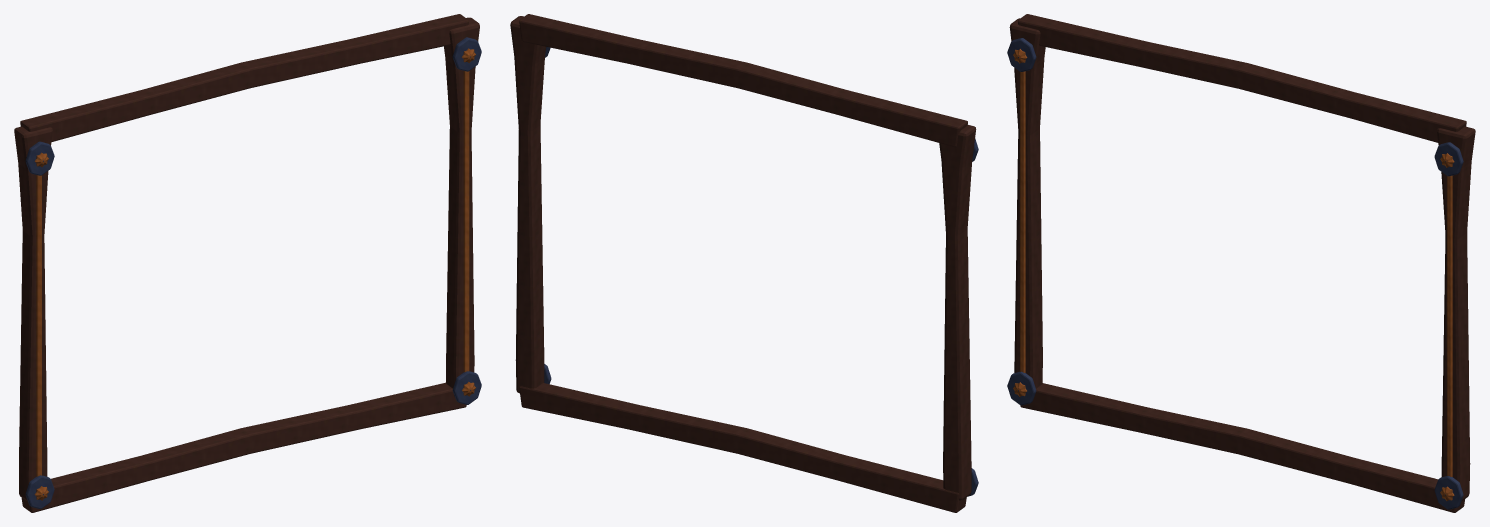
Rendered from hero-shadow-frame.glb.
3 renders of one model, left to right at view 1: azimuth 30°, elevation 25°; view 2: azimuth 150°, elevation 25°; view 3: azimuth 330°, elevation 25°, orthographic.
Parts seen in each view (by area): view 1: Ebony stained stage wood, Ceiling ochre leaf, Quiet indigo veneer; view 2: Ebony stained stage wood; view 3: Ebony stained stage wood, Ceiling ochre leaf, Quiet indigo veneer.
Part boxes in pixels (x1,y1,x2,y2): Ebony stained stage wood: [14, 14, 479, 512]; Ceiling ochre leaf: [34, 48, 475, 500]; Quiet indigo veneer: [25, 37, 481, 508]; Ebony stained stage wood: [510, 14, 976, 512]; Ebony stained stage wood: [1009, 14, 1475, 512]; Ceiling ochre leaf: [1013, 49, 1454, 500]; Quiet indigo veneer: [1007, 38, 1463, 509].
Size of the model in its own units: 6.24 by 5.1 by 0.383.
Materials: 3 (3 with a texture image).
